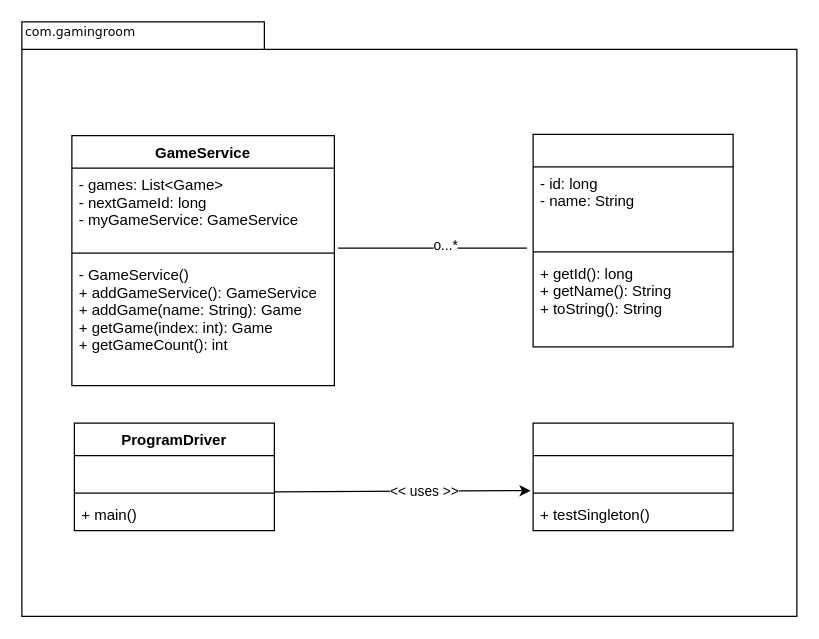
This 819x639 diagram has some shape labels left out. Here are the shapes that lost their labels. From the top down, the box of each, then its label:
(532, 133, 733, 347): Game
(532, 422, 733, 531): SingletonTester
